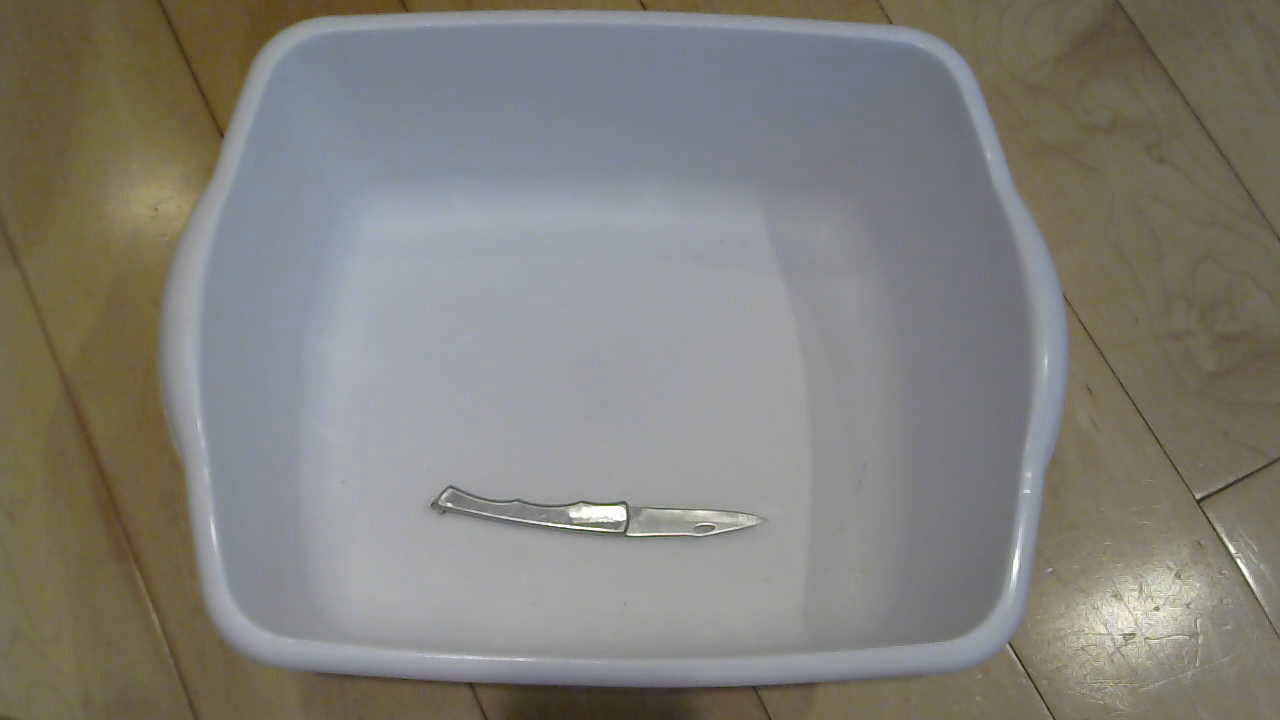knife: (406, 463, 781, 568)
